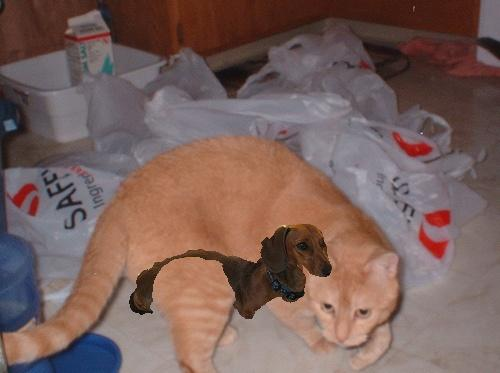tampered: (130, 225, 332, 319)
